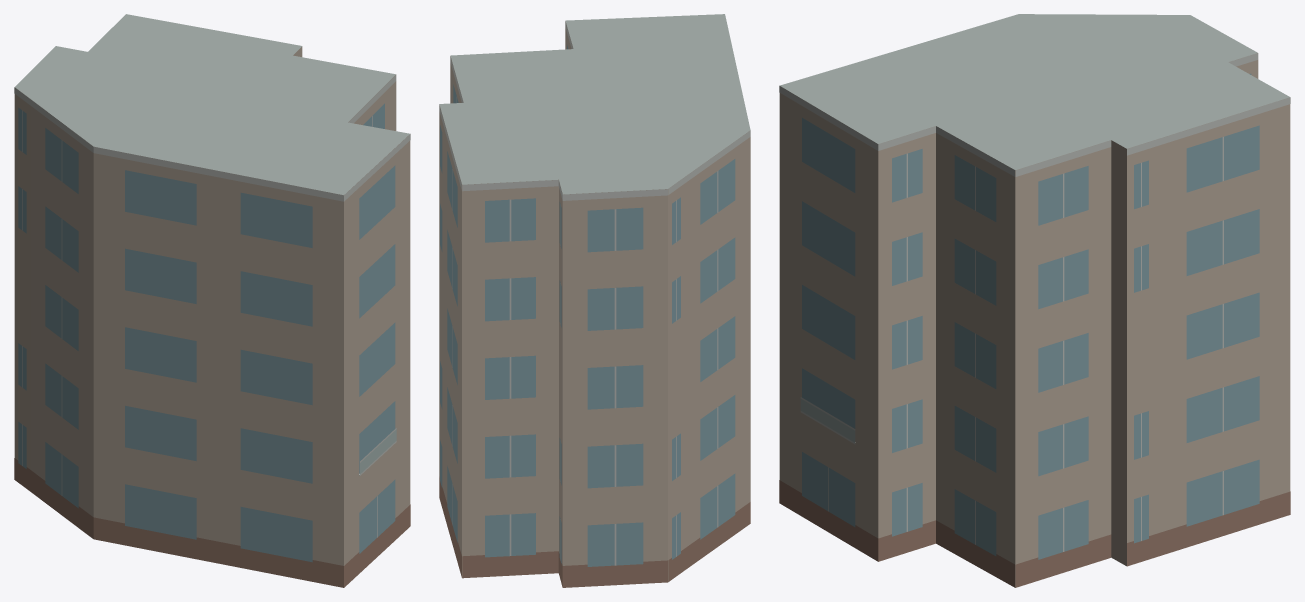
Rendered from survey-upis-32974114.glb.
3 views of the same model, side by side, from view 1: azimuth 30°, elevation 25°; view 2: azimuth 150°, elevation 25°; view 3: azimuth 270°, elevation 25° (orthographic). The views are drawn at different scales.
Parts seen in each view (by area): view 1: survey-upis-32974114.tmp; view 2: survey-upis-32974114.tmp; view 3: survey-upis-32974114.tmp.
Part boxes in pixels (x1=…): survey-upis-32974114.tmp: x1=14, y1=14, x2=410, y2=587; survey-upis-32974114.tmp: x1=439, y1=14, x2=750, y2=587; survey-upis-32974114.tmp: x1=779, y1=14, x2=1290, y2=587.
Bounding box in the file's own units: 11.89 × 14.8 × 16.42.
